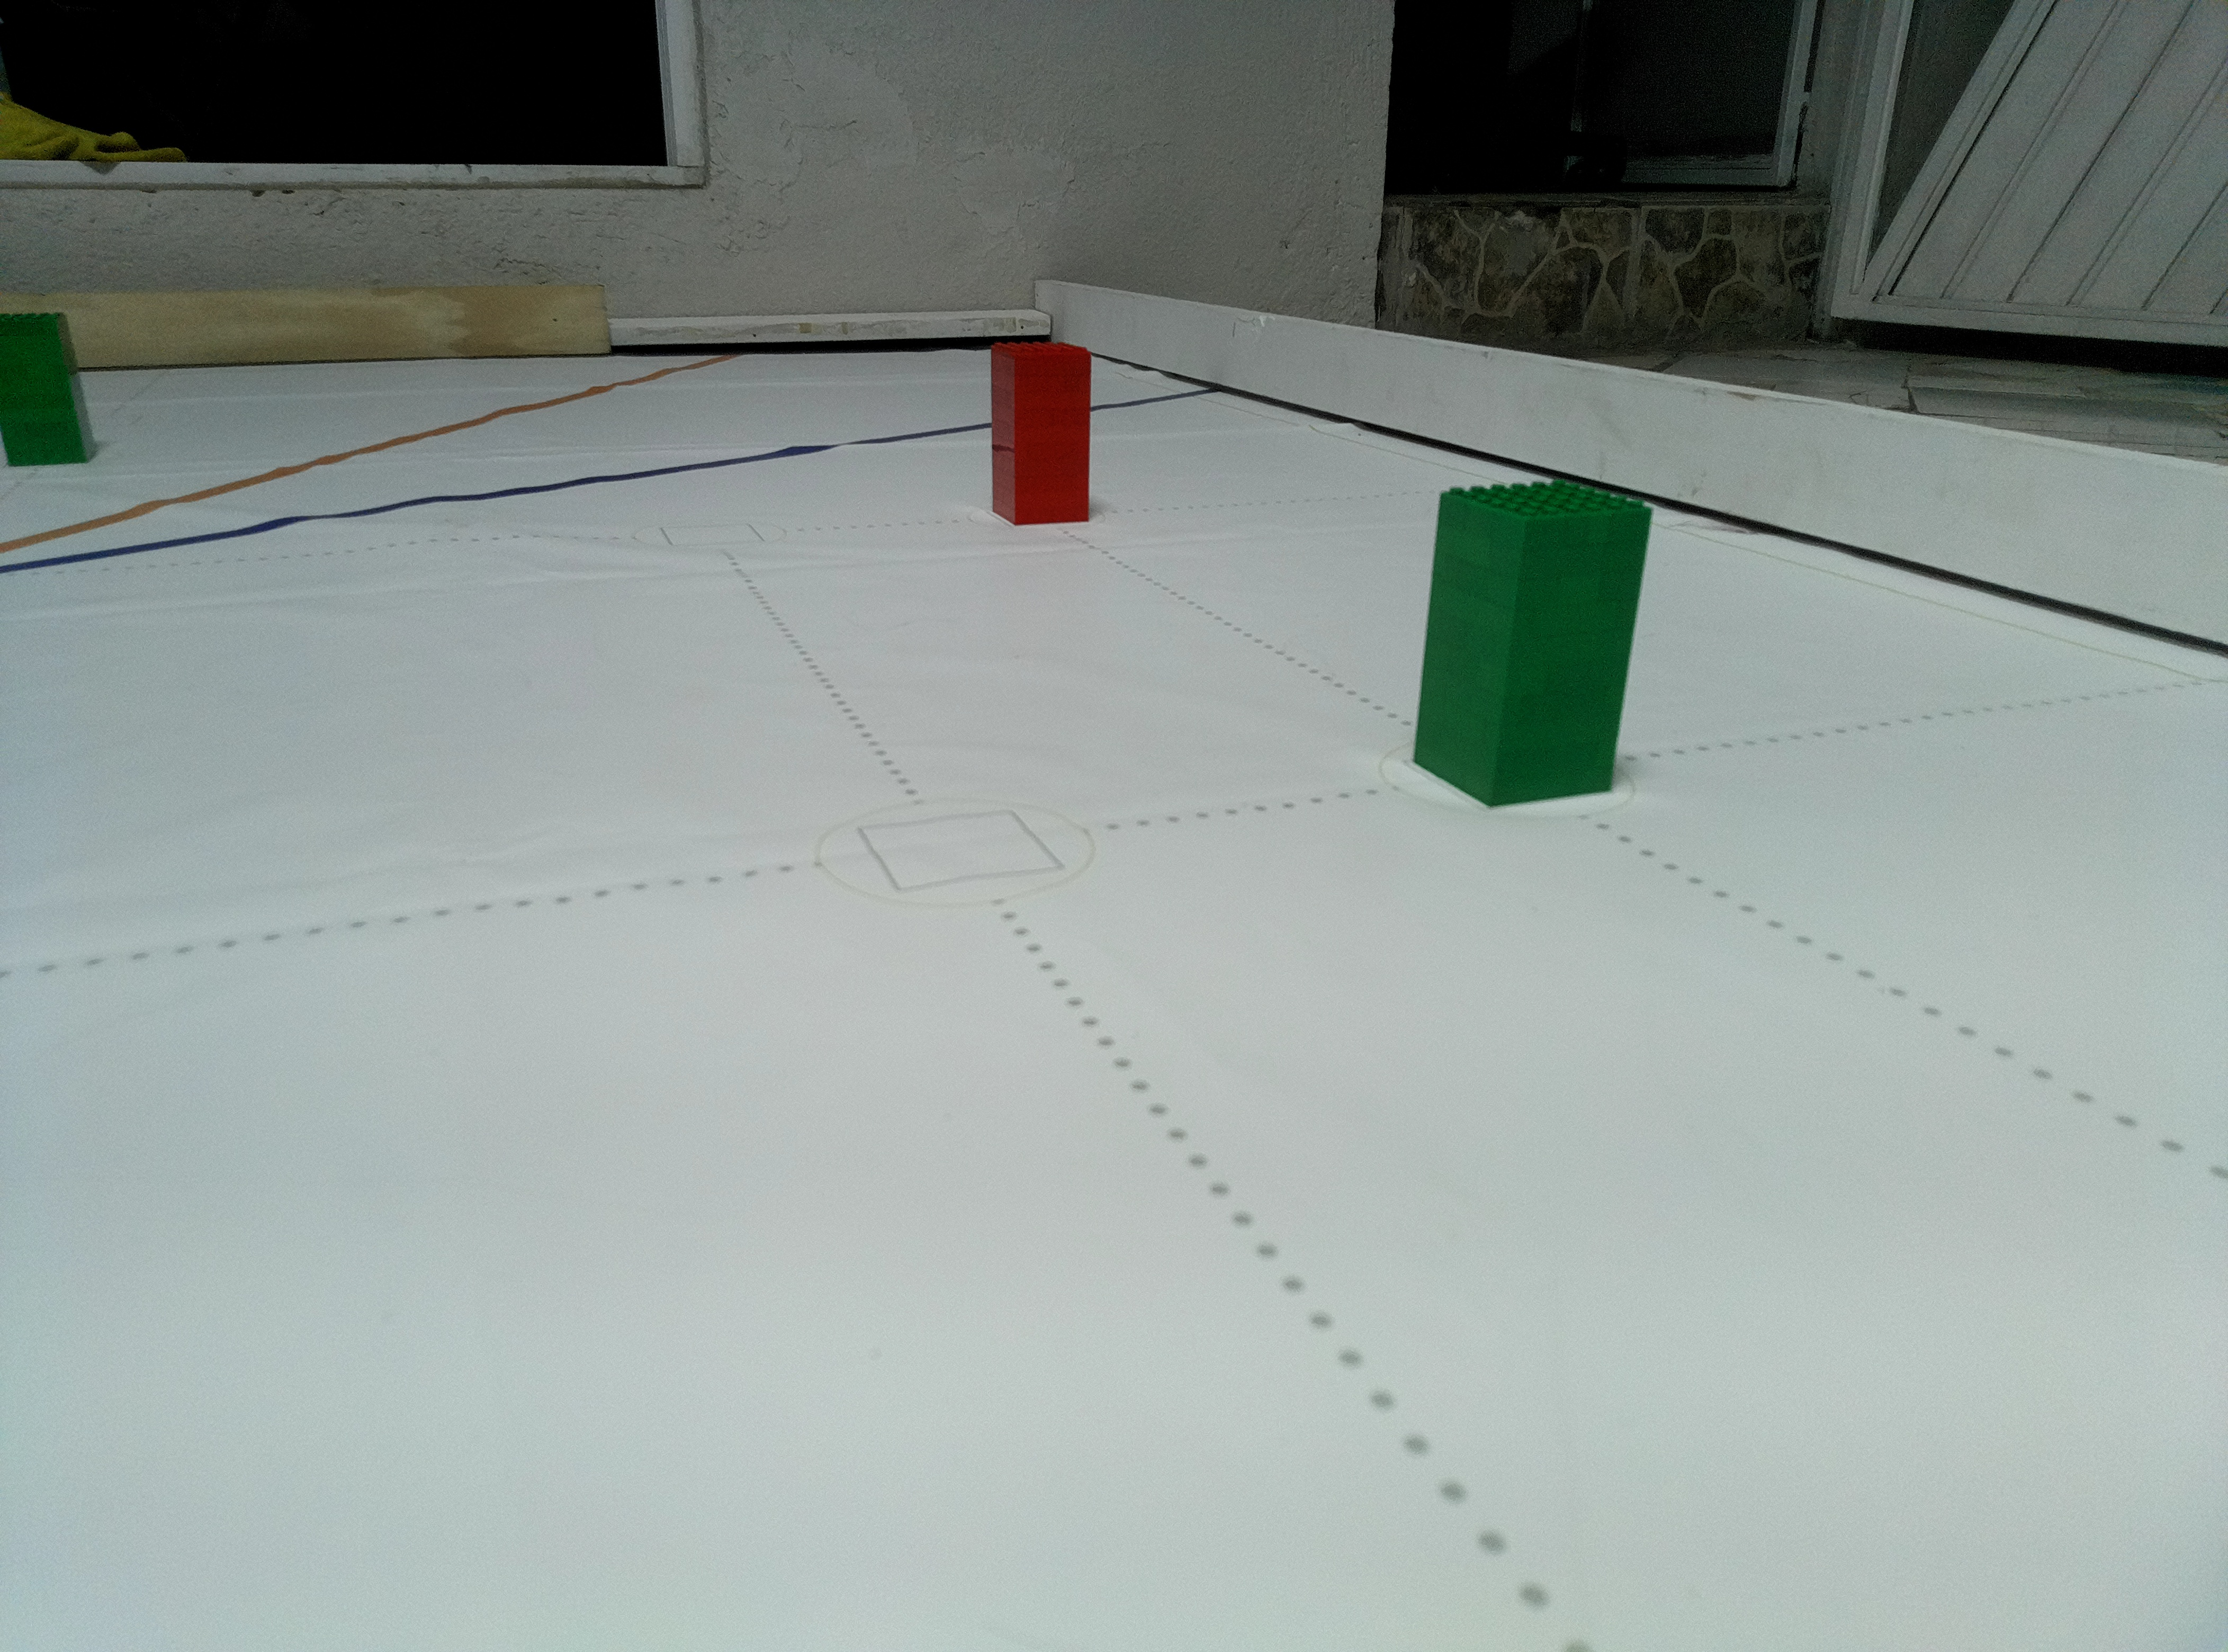greenbox: (1409, 474, 1654, 816), (0, 307, 99, 469)
redbox: (986, 338, 1097, 529)
